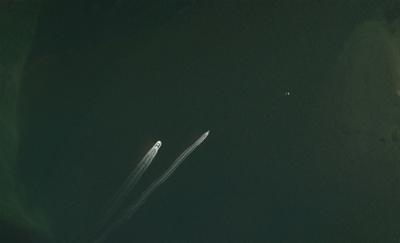Ships: (197, 125, 214, 146), (153, 135, 166, 155), (281, 88, 295, 104)
